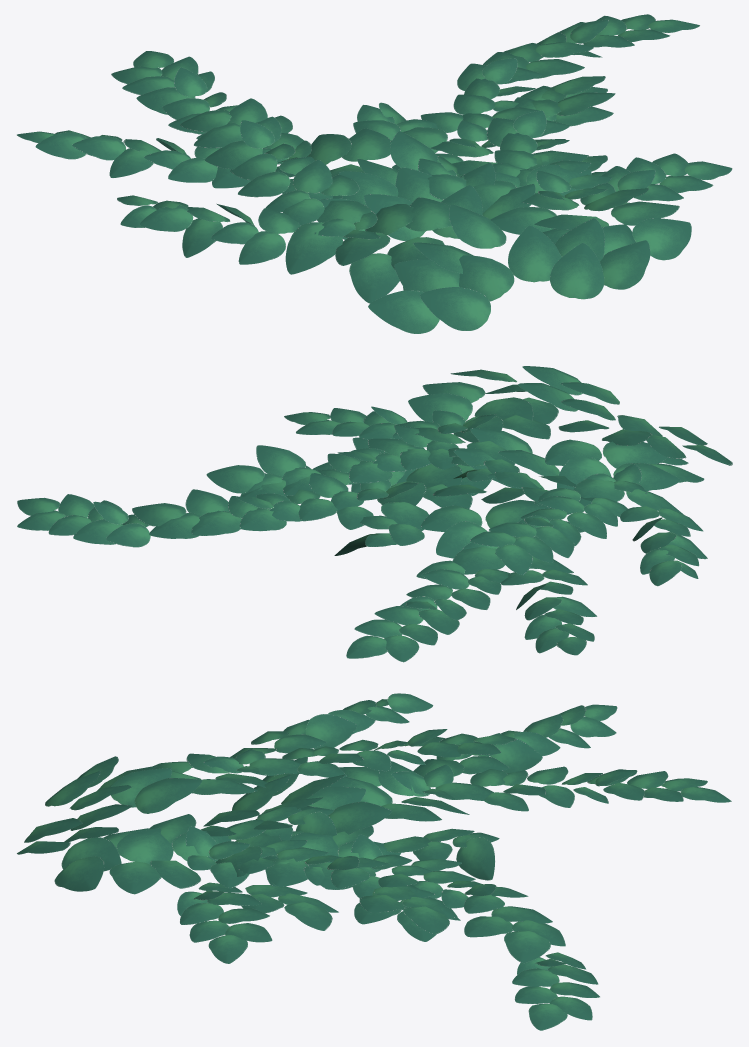
File: ck_ivy.fbx
3 renders of one model, top to bottom at view 1: azimuth 30°, elevation 25°; view 2: azimuth 150°, elevation 25°; view 3: azimuth 270°, elevation 25°, orthographic. The views are drawn at different scales.
Parts seen in each view (by area): view 1: polySurface116; view 2: polySurface116; view 3: polySurface116.
Part boxes in pixels (left/top/right/bottom): polySurface116: left=17, top=14, right=732, bottom=333; polySurface116: left=17, top=366, right=732, bottom=662; polySurface116: left=17, top=693, right=731, bottom=1030.
Bounding box in the file's own units: 559 × 56.49 × 541.
